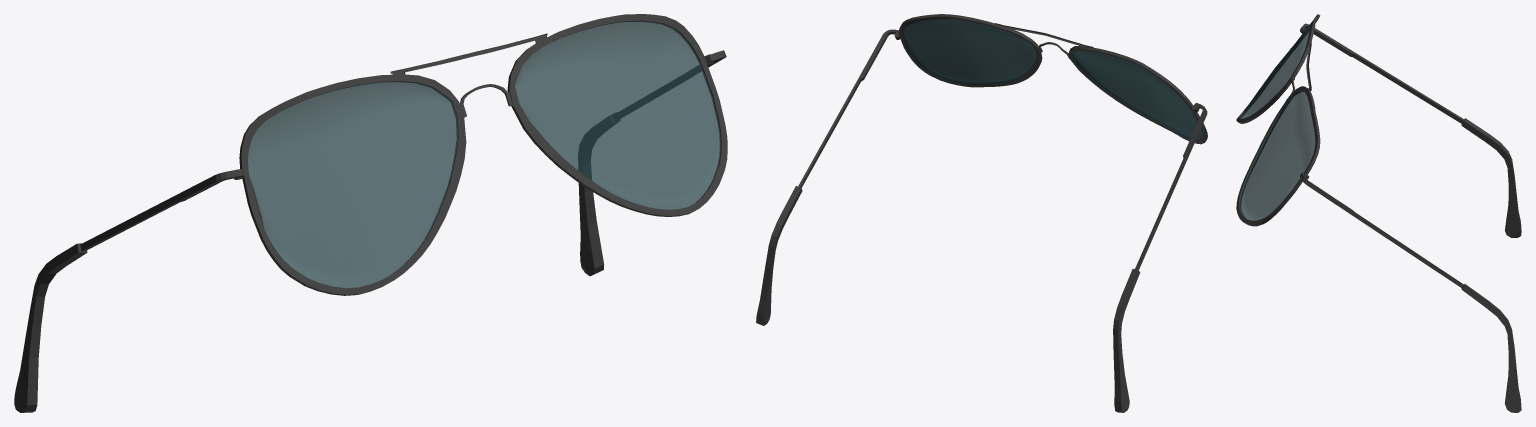
Rendered from Hat_Aviators-top.fbx.
3 views of the same model, side by side, from view 1: azimuth 30°, elevation 25°; view 2: azimuth 150°, elevation 25°; view 3: azimuth 270°, elevation 25° (orthographic). The views are drawn at different scales.
Parts seen in each view (by area): view 1: Aviators1; view 2: Aviators1; view 3: Aviators1.
Part boxes in pixels (x1,y1,x2,y2): Aviators1: (14,14,727,412); Aviators1: (756,14,1207,412); Aviators1: (1236,14,1521,412).
Bounding box in the file's own units: 262 × 177 × 176.
